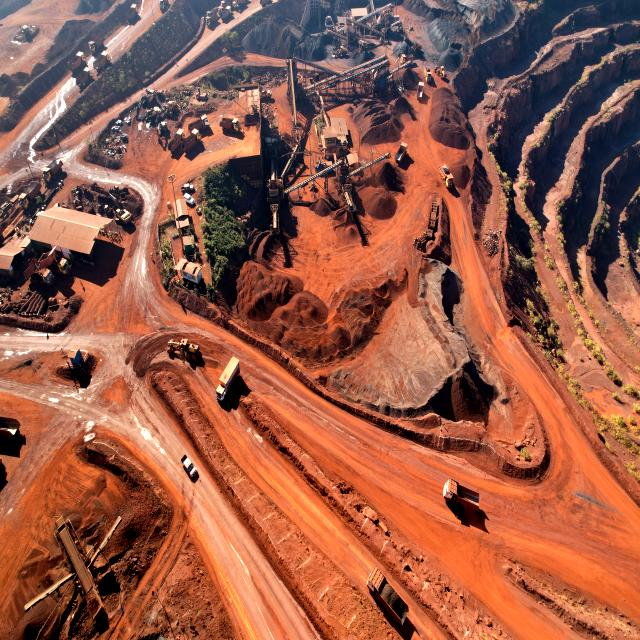Dumper truck: (364, 568, 409, 624), (444, 479, 481, 517), (216, 358, 240, 400), (0, 415, 20, 439), (44, 160, 62, 184), (183, 132, 200, 152), (37, 267, 55, 285), (54, 249, 70, 268), (38, 250, 55, 267), (220, 117, 240, 131), (94, 53, 110, 70), (77, 67, 93, 84), (190, 117, 208, 131), (70, 52, 86, 67), (85, 56, 99, 72), (172, 129, 185, 146), (58, 258, 70, 275), (396, 143, 406, 161), (86, 40, 101, 52), (442, 174, 453, 188), (222, 4, 235, 15), (440, 165, 450, 179), (220, 8, 231, 20), (401, 54, 414, 64), (131, 4, 142, 15), (127, 7, 137, 19), (437, 68, 446, 80), (205, 14, 215, 24), (160, 0, 170, 10), (418, 83, 424, 98), (128, 1, 139, 9), (222, 0, 233, 8), (426, 70, 432, 84), (262, 0, 274, 5)
Excavator: (140, 91, 158, 117), (115, 208, 132, 224), (162, 100, 177, 116), (96, 200, 110, 213), (260, 88, 273, 101)
car: (181, 456, 198, 480), (184, 194, 196, 204)
person: (176, 60, 178, 66), (435, 75, 437, 81)
